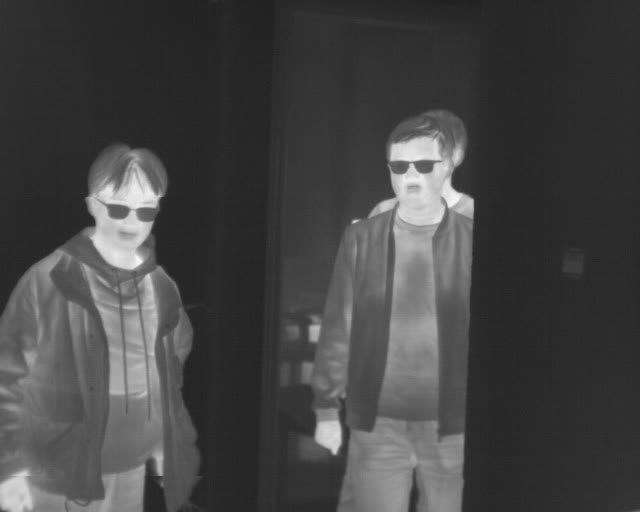face: (84, 141, 167, 253), (387, 115, 453, 211)
